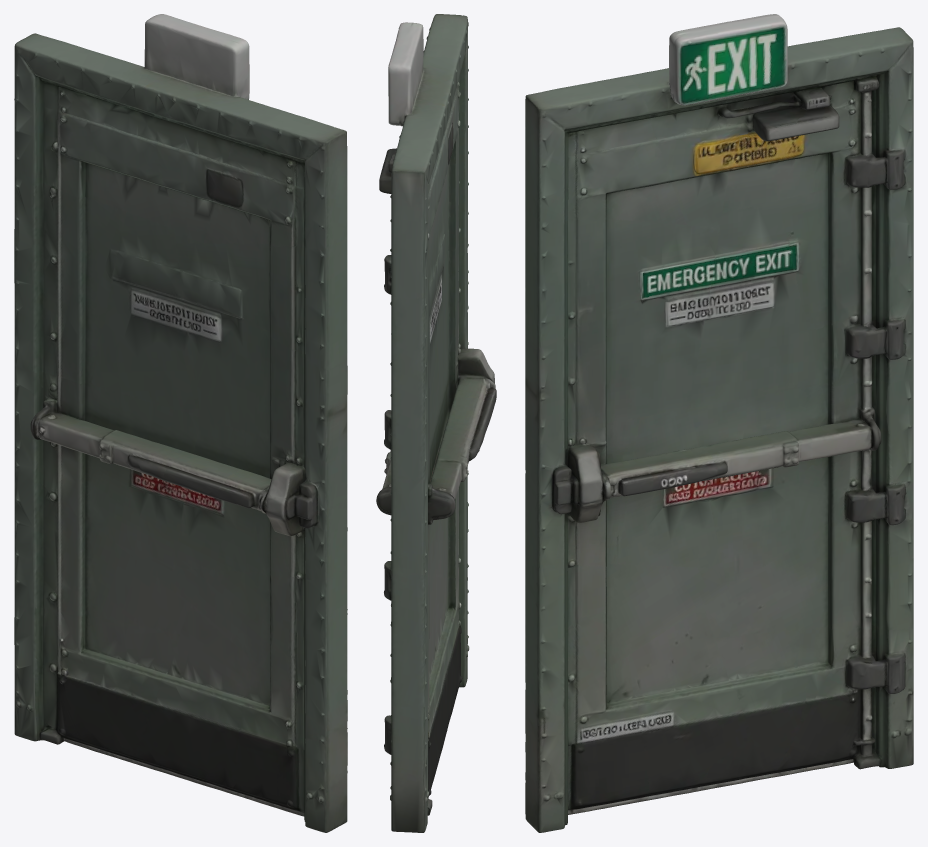
The model's file is emergency_exit_door.glb.
3 renders of one model, left to right at view 1: azimuth 30°, elevation 25°; view 2: azimuth 150°, elevation 25°; view 3: azimuth 270°, elevation 25°, orthographic. The views are drawn at different scales.
Parts seen in each view (by area): view 1: aiprintgen_node_a0b766be-cb0f-4601-ba6a-fc4cdee11531; view 2: aiprintgen_node_a0b766be-cb0f-4601-ba6a-fc4cdee11531; view 3: aiprintgen_node_a0b766be-cb0f-4601-ba6a-fc4cdee11531.
Part boxes in pixels (x1,y1,x2,y2): aiprintgen_node_a0b766be-cb0f-4601-ba6a-fc4cdee11531: (14, 14, 347, 832); aiprintgen_node_a0b766be-cb0f-4601-ba6a-fc4cdee11531: (376, 14, 496, 832); aiprintgen_node_a0b766be-cb0f-4601-ba6a-fc4cdee11531: (525, 14, 913, 832).
Size of the model in its own units: 0.2477 by 1 by 0.4532.
1 material, 1 textured.
